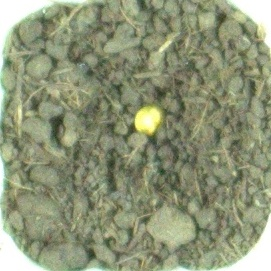chilli seed: (133, 104, 163, 135)
